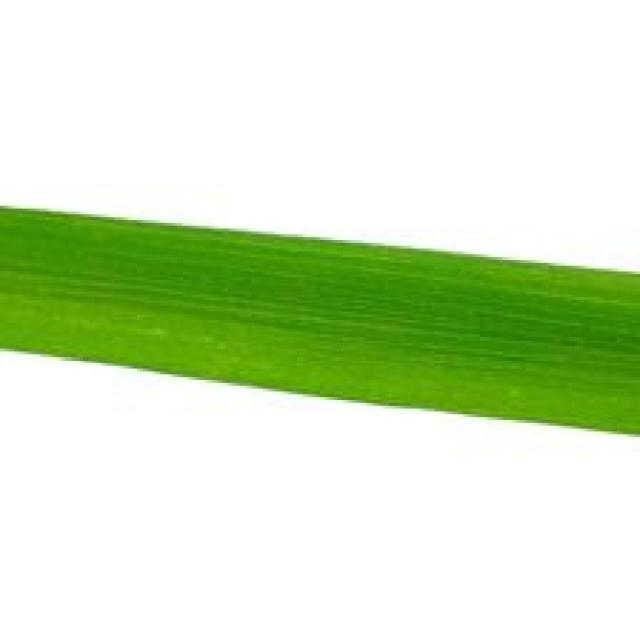Rice___Healthy_Rice_Plant: (0, 204, 637, 441)
